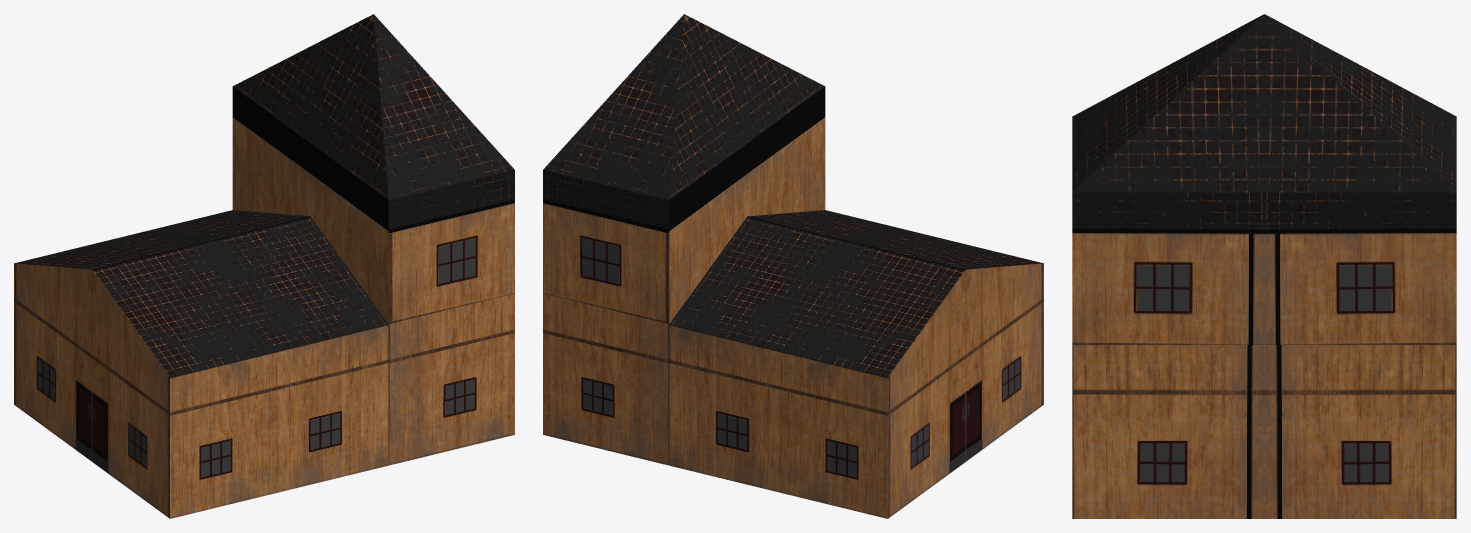
The model's file is churchelino 1.fbx.
3 renders of one model, left to right at view 1: azimuth 30°, elevation 25°; view 2: azimuth 150°, elevation 25°; view 3: azimuth 270°, elevation 25°, orthographic. The views are drawn at different scales.
Visible parts, largest first — view 1: Churchelino; view 2: Churchelino; view 3: Churchelino.
Boxes of the visible parts, left/top/right/bottom form: Churchelino: left=14, top=14, right=514, bottom=518; Churchelino: left=543, top=14, right=1043, bottom=518; Churchelino: left=1072, top=14, right=1456, bottom=518.
Bounding box in the file's own units: 510 × 536 × 400.
